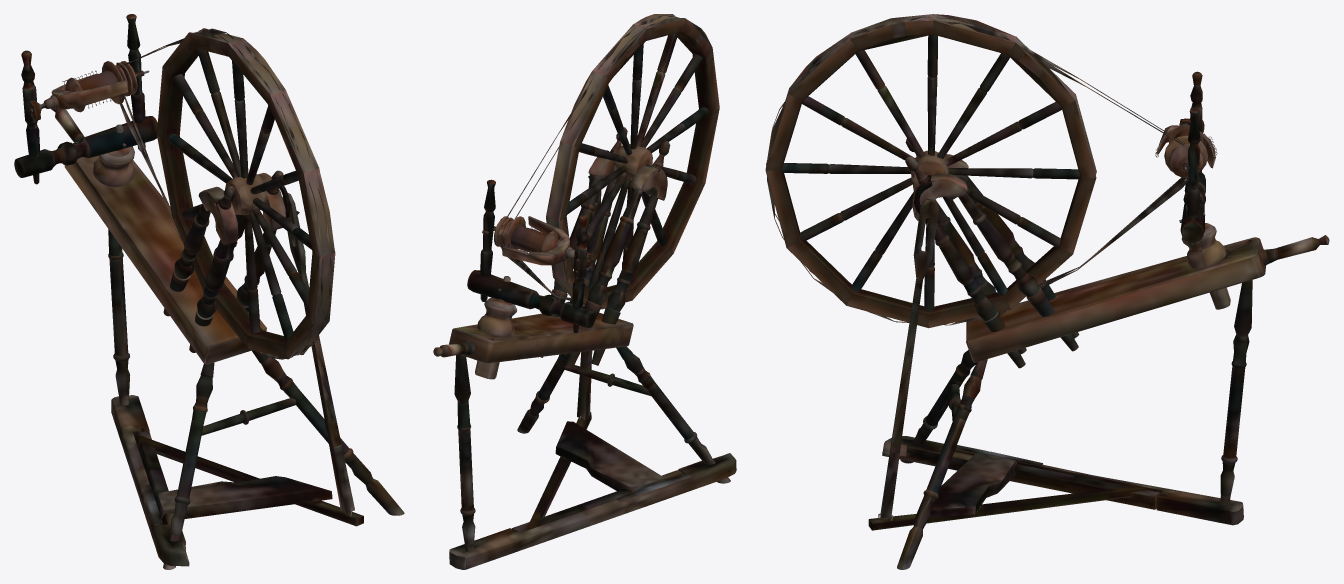
3 views of the same model, side by side, from view 1: azimuth 30°, elevation 25°; view 2: azimuth 150°, elevation 25°; view 3: azimuth 270°, elevation 25° (orthographic). The views are drawn at different scales.
Parts seen in each view (by area): view 1: spinning_wheel_01; view 2: spinning_wheel_01; view 3: spinning_wheel_01.
Part boxes in pixels (bbox=[...]): spinning_wheel_01: bbox=[14, 14, 404, 569]; spinning_wheel_01: bbox=[433, 14, 736, 569]; spinning_wheel_01: bbox=[765, 14, 1329, 569].
Bounding box in the file's own units: 0.4894 × 0.9662 × 1.02.
Materials: 1 (1 with a texture image).
